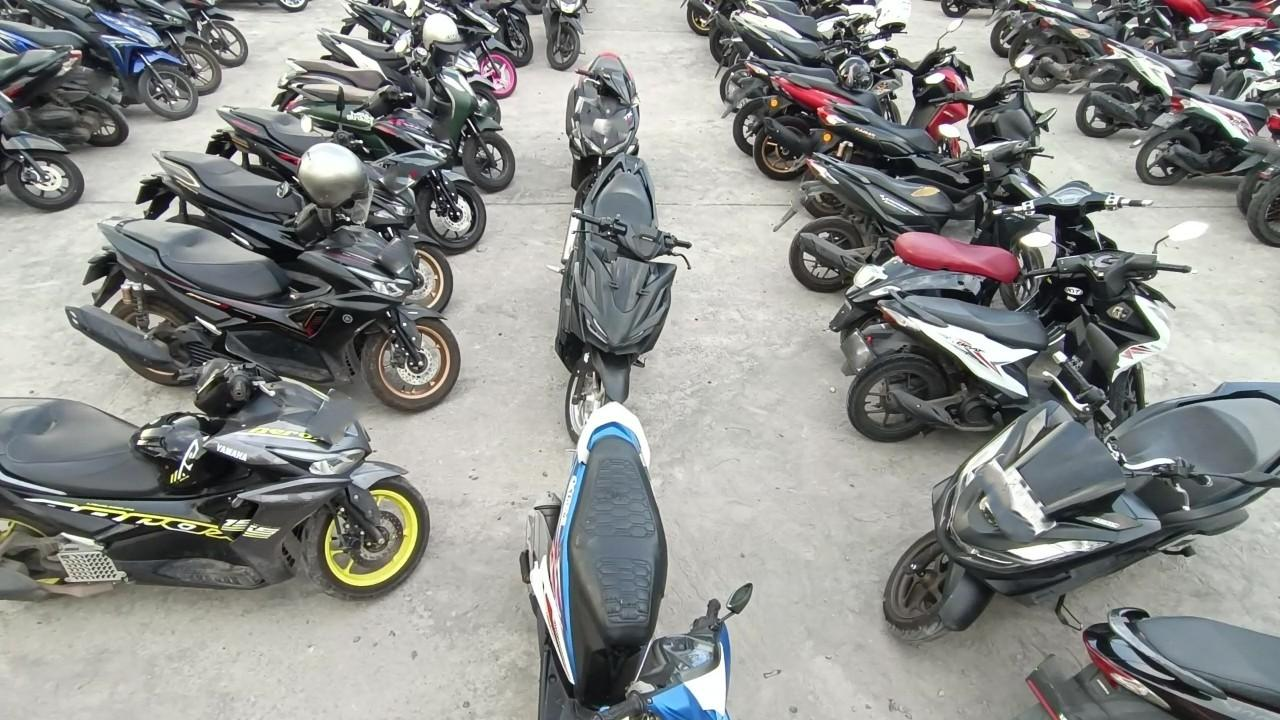motorcycle: (0, 329, 432, 613), (885, 344, 1280, 638), (63, 141, 462, 414), (842, 219, 1219, 441), (506, 403, 766, 720), (141, 89, 456, 311), (830, 180, 1161, 346), (784, 109, 1059, 307), (204, 72, 487, 255), (549, 153, 696, 442), (283, 19, 514, 196), (754, 19, 974, 177), (806, 54, 1057, 190), (1017, 601, 1280, 720), (729, 3, 916, 154), (0, 0, 199, 122), (314, 12, 502, 126), (0, 0, 222, 94), (336, 0, 517, 99), (271, 11, 442, 113), (556, 50, 648, 202), (0, 44, 130, 146), (0, 83, 86, 215), (541, 0, 588, 72)
